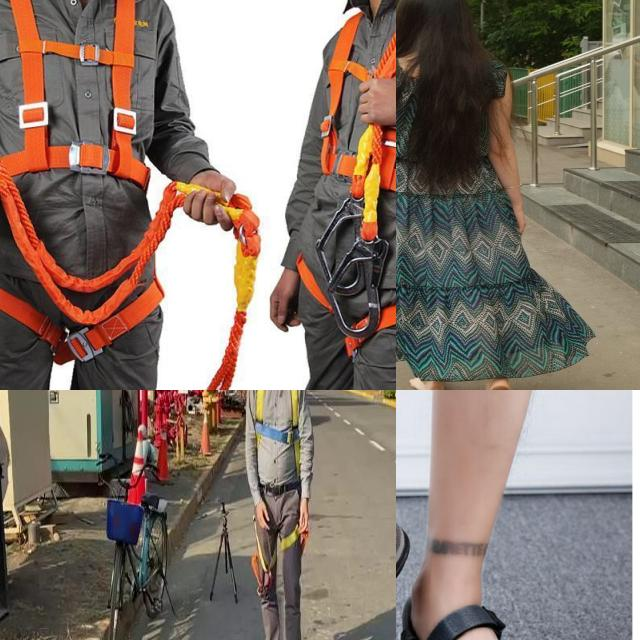Barefoots: (408, 376, 446, 390)
Harness: (0, 0, 157, 367), (323, 0, 396, 343), (256, 390, 299, 478), (251, 527, 300, 598)
Sandals: (396, 550, 605, 640)
